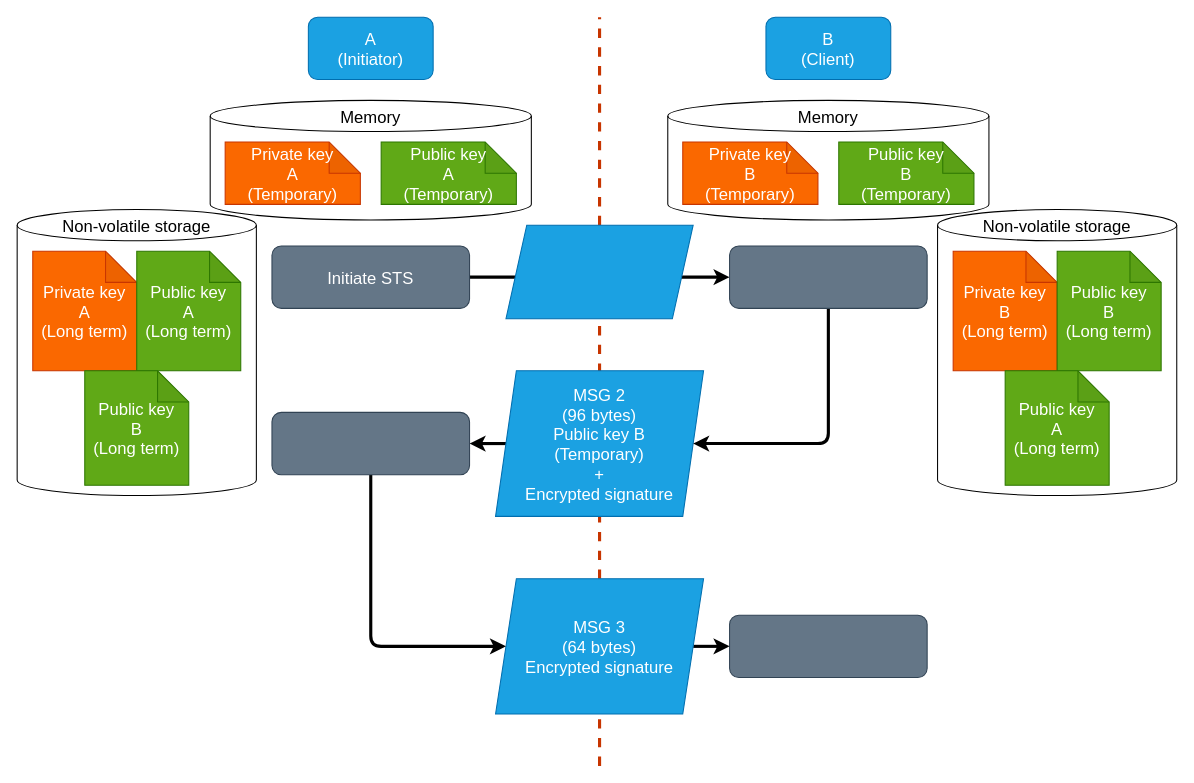
Image size: 1194x783. Some labels were removed from this diagram. Here are the shapes that lost their labels. From the top down, the centre of each, then its label:
the point at 599,271: MSG 1 (32 bytes) Public key A (Temporary)
the point at 828,276: Respond STS
the point at 370,443: Response Ack STS
the point at 828,646: Finish STS
